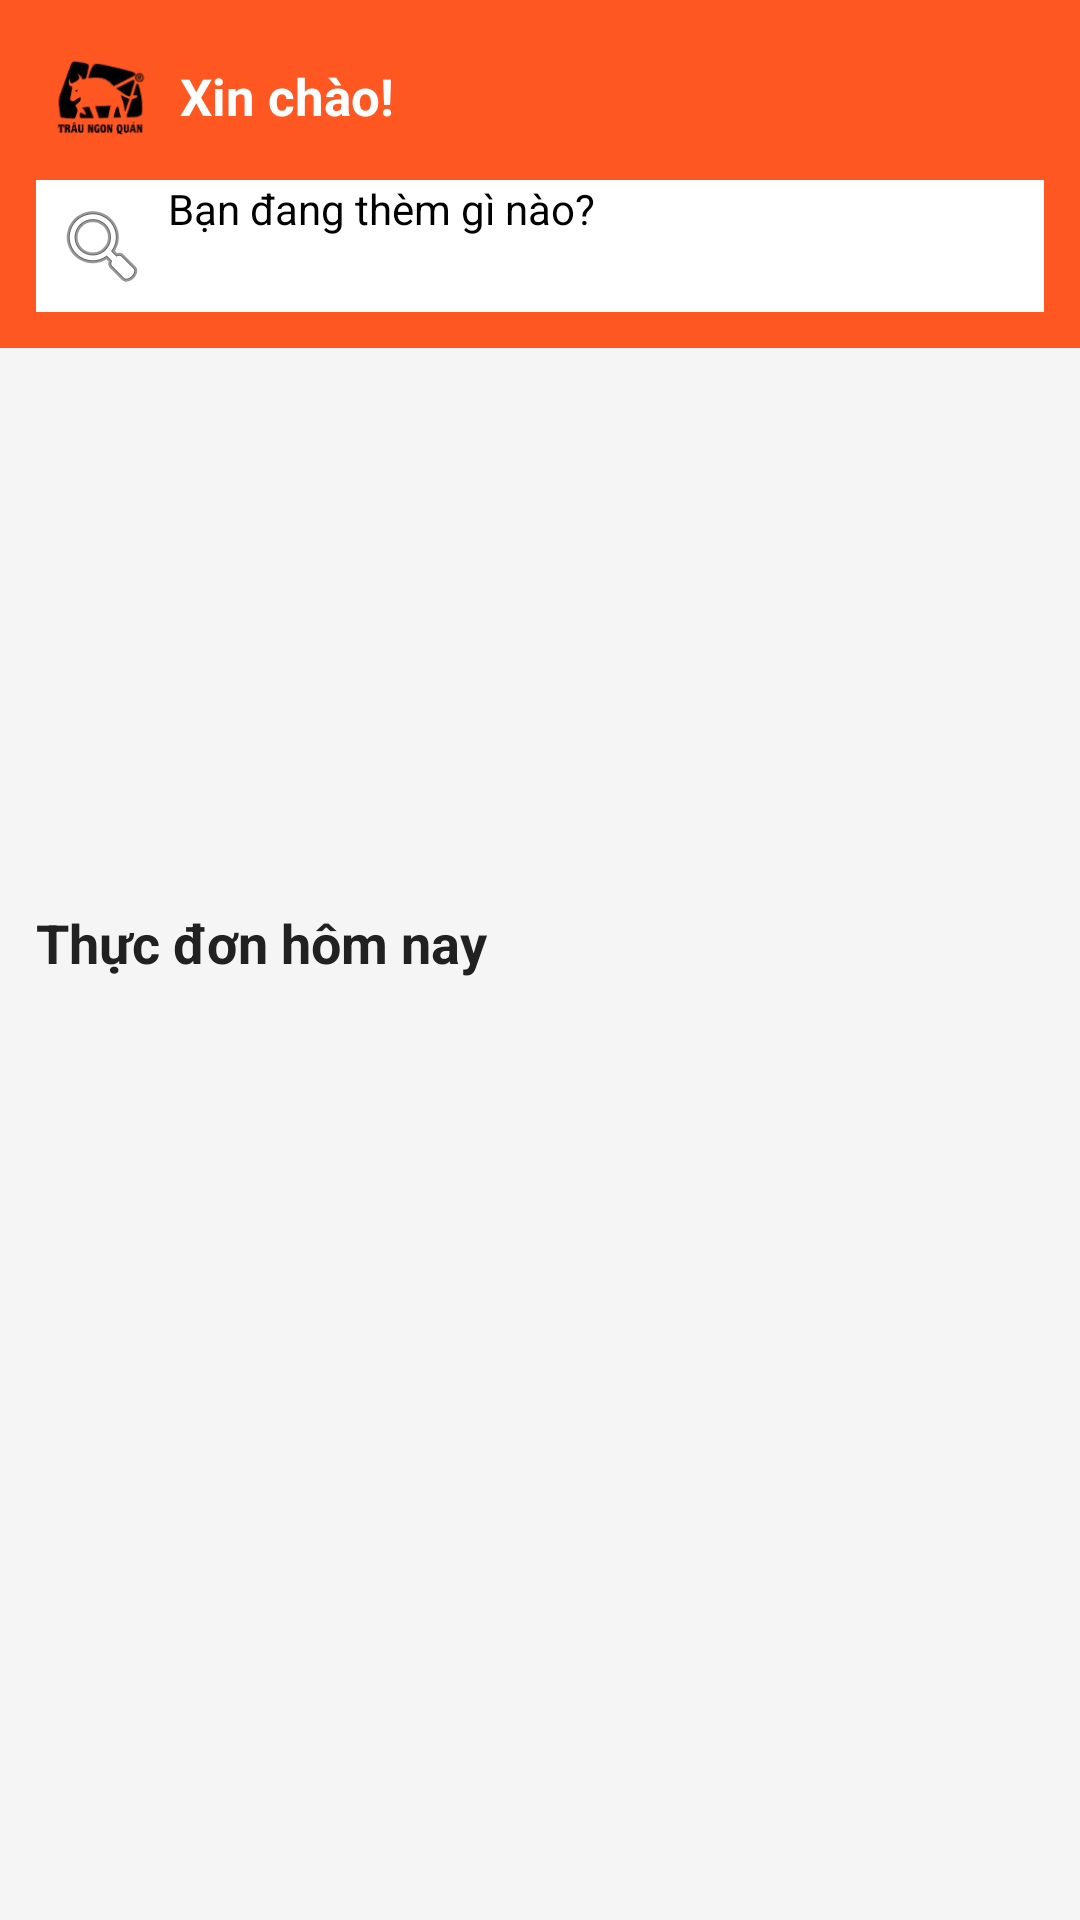

Named icons in this screenshot (1080x1920) and their bounding boxes, (x1, y1, x2, y2):
search: (36, 180, 168, 312)
